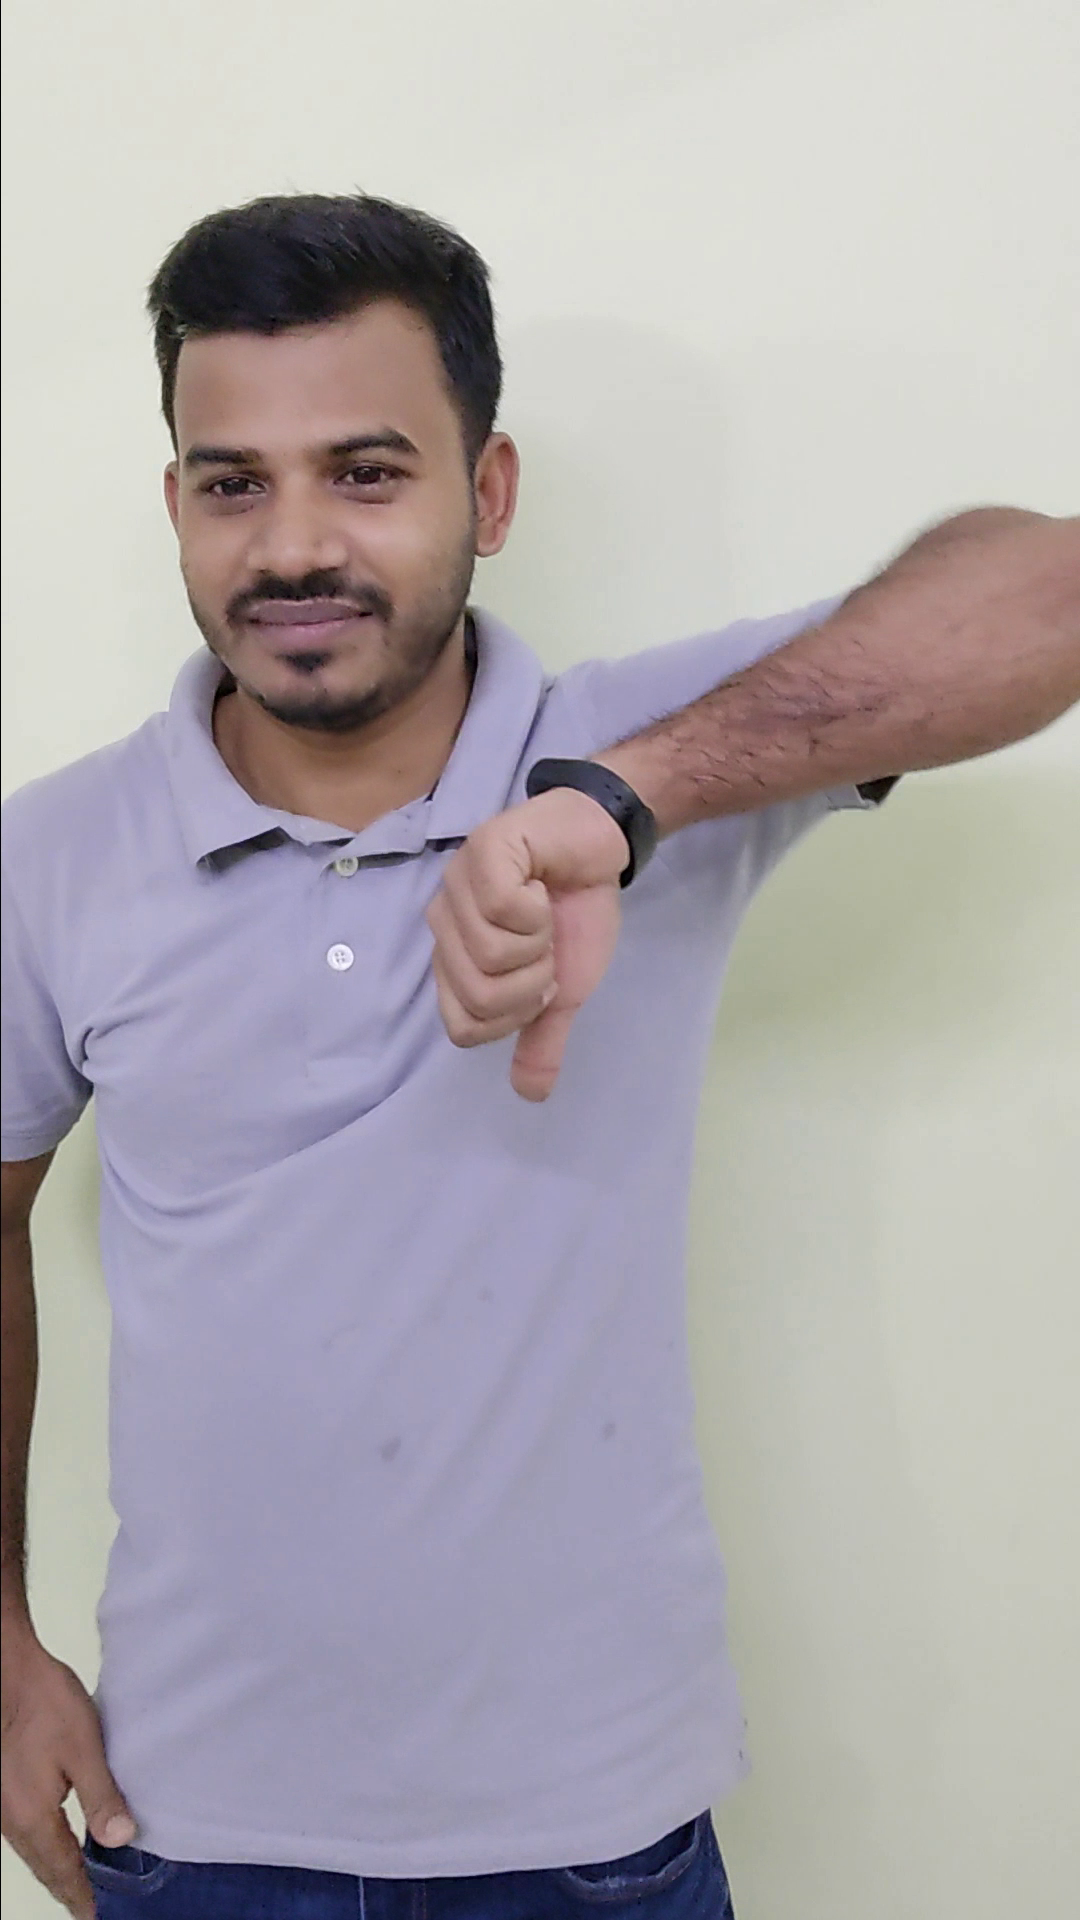Dislike: (415, 744, 644, 1114)
None: (0, 1611, 164, 1920)
